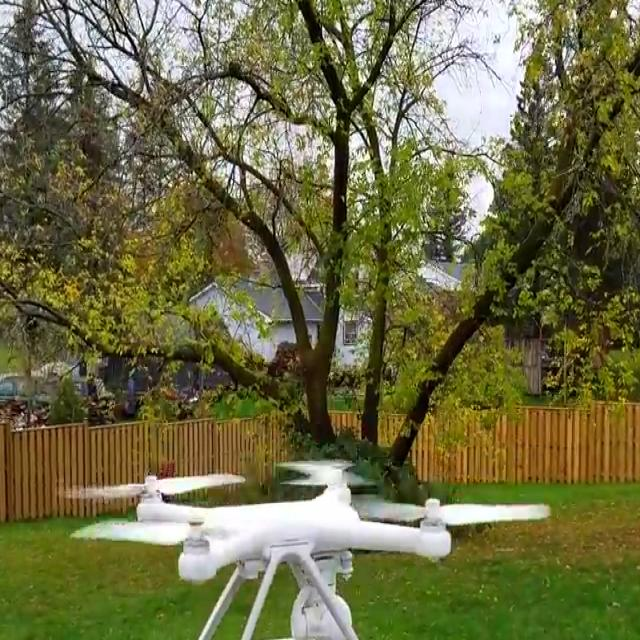drone: (49, 448, 578, 622)
